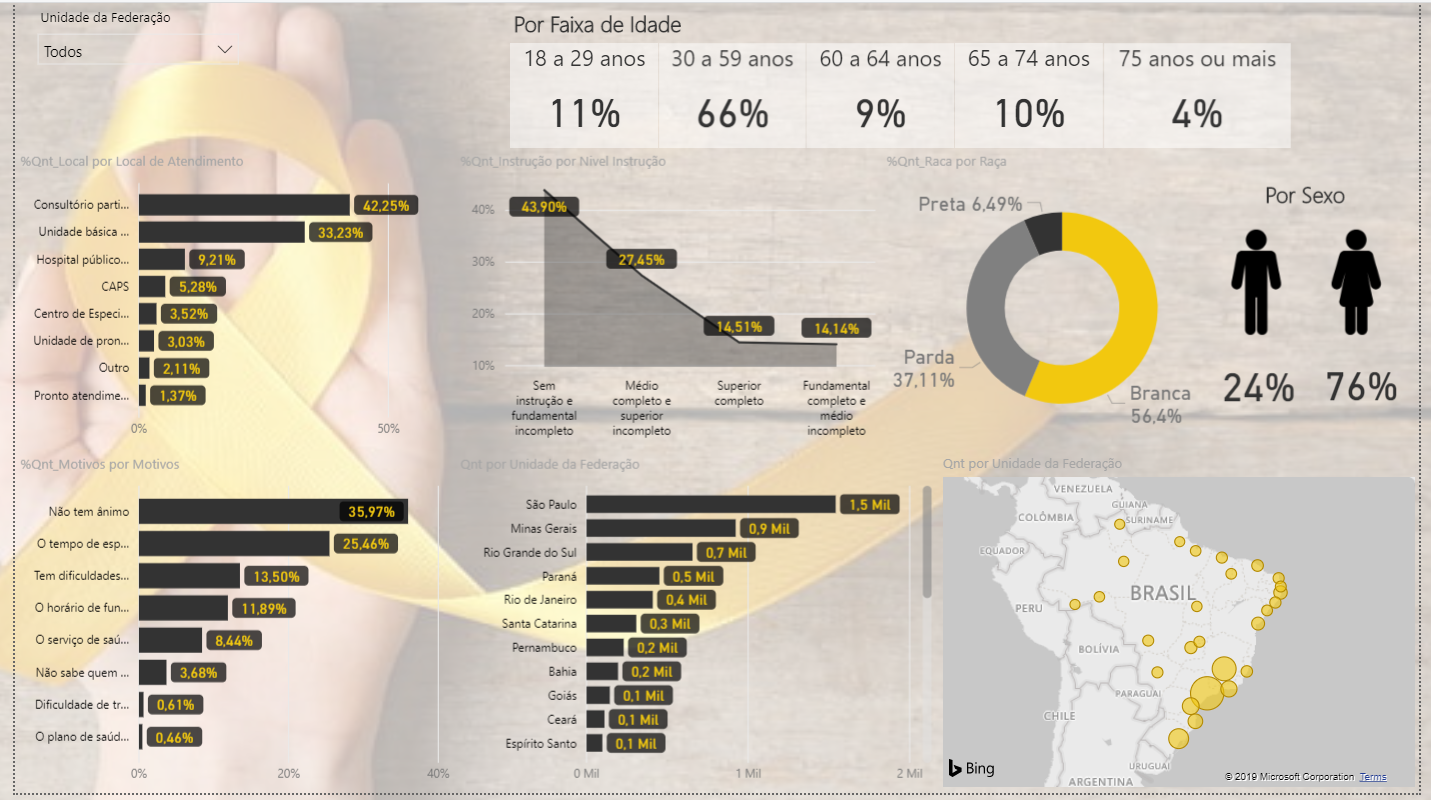

Layout of this report page (visuals, bound fields, positions):
{"tool":"powerbi","page":{"name":"Página 1","canvas":[1280,720],"ordinal":0},"visuals":[{"type":"slicer","fields":{"Values":["tb_Localidade.Unidade da Federação"]},"box":[10.4,0,203.5,78.3],"z":0},{"type":"map","fields":{"Category":["tb_Localidade.Unidade da Federação"],"Size":["Sum(tb_Localidade.Qnt)"]},"box":[840.7,411.6,439.3,308.4],"z":1000},{"type":"donutChart","fields":{"Y":["tb_Localidade.%Qnt_Raca"],"Category":["tb_Raca.Raça"]},"box":[789.8,135.3,330.2,269.1],"z":2000},{"type":"textbox","box":[1120,155.6,112,58.2],"z":3000},{"type":"image","box":[1077.8,202.2,109.1,106.2],"z":4000},{"type":"image","box":[1163.6,202.2,116.4,106.2],"z":5000},{"type":"clusteredBarChart","fields":{"Category":["tb_Locais de Atendimento.Atributo"],"Y":["tb_Localidade.%Qnt_Local1"]},"box":[0,135.3,401.5,269.1],"z":6000},{"type":"card","title":"Mesculino","fields":{"Values":["tb_Localidade.%Qnt_Sexo_M"]},"box":[1090.9,298.2,84.4,96],"z":7000},{"type":"areaChart","fields":{"Y":["tb_Localidade.%Qnt_Instrução"],"Category":["tb_Nivel de Instrucao.Nivel Instrução"]},"box":[401.5,135.3,388.4,269.1],"z":8000},{"type":"card","title":"Mesculino","fields":{"Values":["tb_Localidade.%Qnt_Sexo_F"]},"box":[1180.3,298.5,93.4,95.7],"z":9000},{"type":"clusteredBarChart","fields":{"Category":["tb_Motivos para não ir ao Medico.Motivos"],"Y":["tb_Localidade.%Qnt_Motivos"]},"box":[0,411.6,401.5,308.4],"z":10000},{"type":"card","title":"18 a 29 anos","fields":{"Values":["tb_Localidade.%Qnt_Faixa 18 a 29"]},"box":[451.1,36.5,135.6,95.7],"z":11000},{"type":"card","title":"30 a 59 anos","fields":{"Values":["tb_Localidade.%Qnt_Faixa 30 a 59"]},"box":[586.7,36.5,134.4,95.7],"z":12000},{"type":"card","title":"60 a 64 anos","fields":{"Values":["tb_Localidade.%Qnt_Faixa 60 a 64"]},"box":[721.1,36.5,135.6,95.7],"z":13000},{"type":"card","title":"65 a 74 anos","fields":{"Values":["tb_Localidade.%Qnt_Faixa 65 a 74"]},"box":[856.7,36.5,135.6,95.7],"z":14000},{"type":"card","title":"75 anos ou mais","fields":{"Values":["tb_Localidade.%Qnt_Faixa 75 ou mais"]},"box":[992.3,36.5,170.9,95.7],"z":15000},{"type":"clusteredBarChart","fields":{"Category":["tb_Localidade.Unidade da Federação"],"Y":["Sum(tb_Localidade.Qnt)"]},"box":[401.5,411.6,439.3,308.4],"z":16000},{"type":"textbox","box":[440.9,0,180,38.7],"z":16001}]}

Visuals, with their boxes in screenshot pixels (x1, y1, x2, y2), scaled from the page's 1280x720 canvas onto the 1431x800 screenshot:
slicer - tb_Localidade.Unidade da Federação: rect(12, 0, 239, 87)
map - tb_Localidade.Unidade da Federação x Sum(tb_Localidade.Qnt): rect(940, 457, 1430, 799)
donutChart - tb_Localidade.%Qnt_Raca x tb_Raca.Raça: rect(883, 150, 1252, 449)
textbox: rect(1252, 173, 1377, 238)
image: rect(1205, 225, 1327, 343)
image: rect(1301, 225, 1430, 343)
clusteredBarChart - tb_Locais de Atendimento.Atributo x tb_Localidade.%Qnt_Local1: rect(0, 150, 449, 449)
"Mesculino" card: rect(1220, 331, 1314, 438)
areaChart - tb_Localidade.%Qnt_Instrução x tb_Nivel de Instrucao.Nivel Instrução: rect(449, 150, 883, 449)
"Mesculino" card: rect(1320, 332, 1424, 438)
clusteredBarChart - tb_Motivos para não ir ao Medico.Motivos x tb_Localidade.%Qnt_Motivos: rect(0, 457, 449, 799)
"18 a 29 anos" card: rect(504, 41, 656, 147)
"30 a 59 anos" card: rect(656, 41, 806, 147)
"60 a 64 anos" card: rect(806, 41, 958, 147)
"65 a 74 anos" card: rect(958, 41, 1109, 147)
"75 anos ou mais" card: rect(1109, 41, 1300, 147)
clusteredBarChart - tb_Localidade.Unidade da Federação x Sum(tb_Localidade.Qnt): rect(449, 457, 940, 799)
textbox: rect(493, 0, 694, 43)
